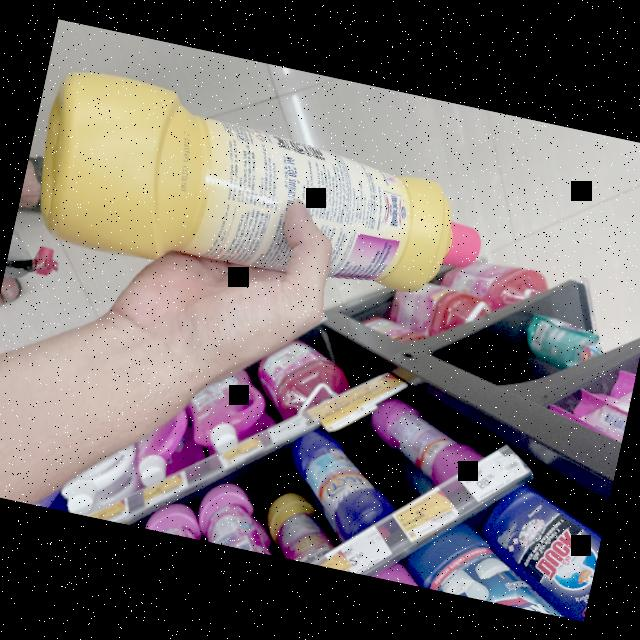chemical_plastic_bottle: (18, 55, 500, 334)
